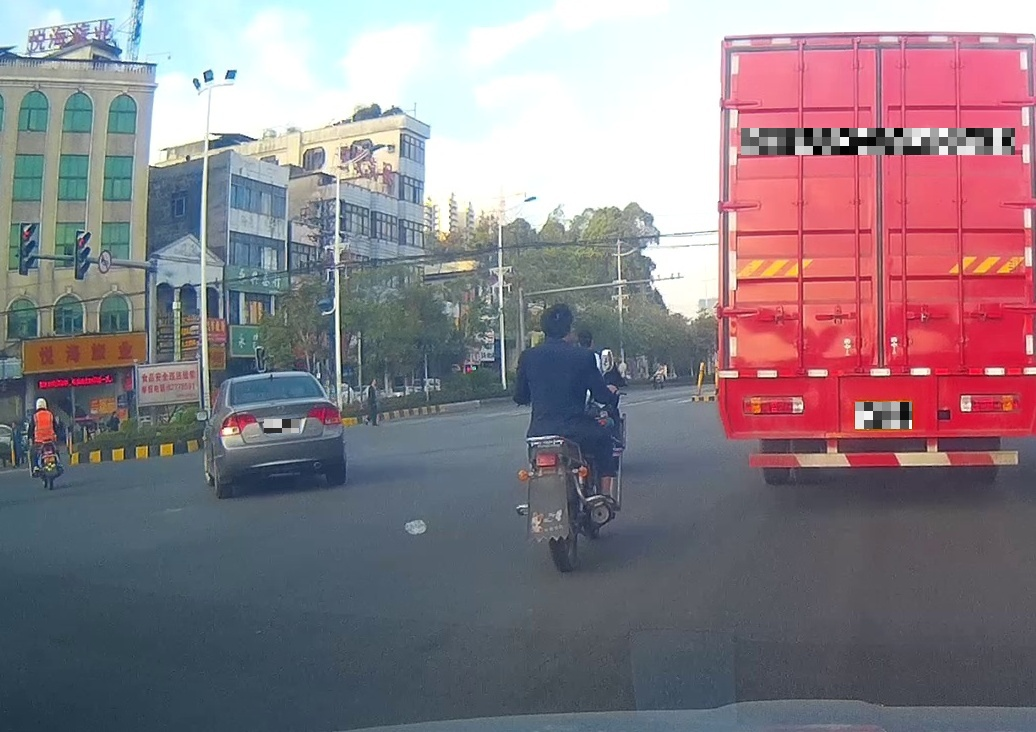L_light: (744, 396, 804, 415), (219, 411, 257, 436)
R_light: (960, 393, 1019, 412), (308, 402, 342, 425)
T_light: (854, 49, 910, 64), (263, 377, 282, 382)
day-left: (218, 371, 343, 497)
day-no: (716, 32, 1036, 483)
plate_1: (264, 419, 299, 433)
plate_2: (741, 128, 1015, 155)
plate_3: (855, 402, 912, 429)
